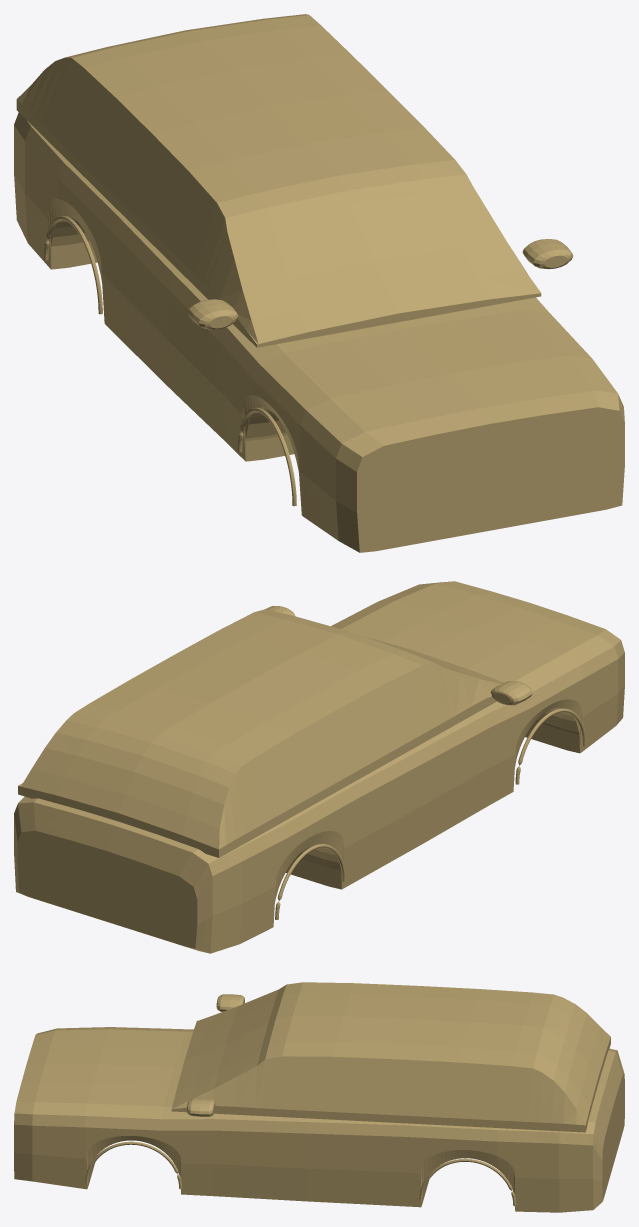
The model's file is car-passat-b7--gold.glb.
3 renders of one model, top to bottom at view 1: azimuth 30°, elevation 25°; view 2: azimuth 150°, elevation 25°; view 3: azimuth 270°, elevation 25°, orthographic. The views are drawn at different scales.
Visible parts, largest first — view 1: car-passat-b7; view 2: car-passat-b7; view 3: car-passat-b7.
Part boxes in pixels (left/top/right/bottom): car-passat-b7: left=14, top=14, right=624, bottom=552; car-passat-b7: left=14, top=581, right=624, bottom=953; car-passat-b7: left=14, top=982, right=624, bottom=1212.
Size of the model in its own units: 2.35 by 1.26 by 4.92.
